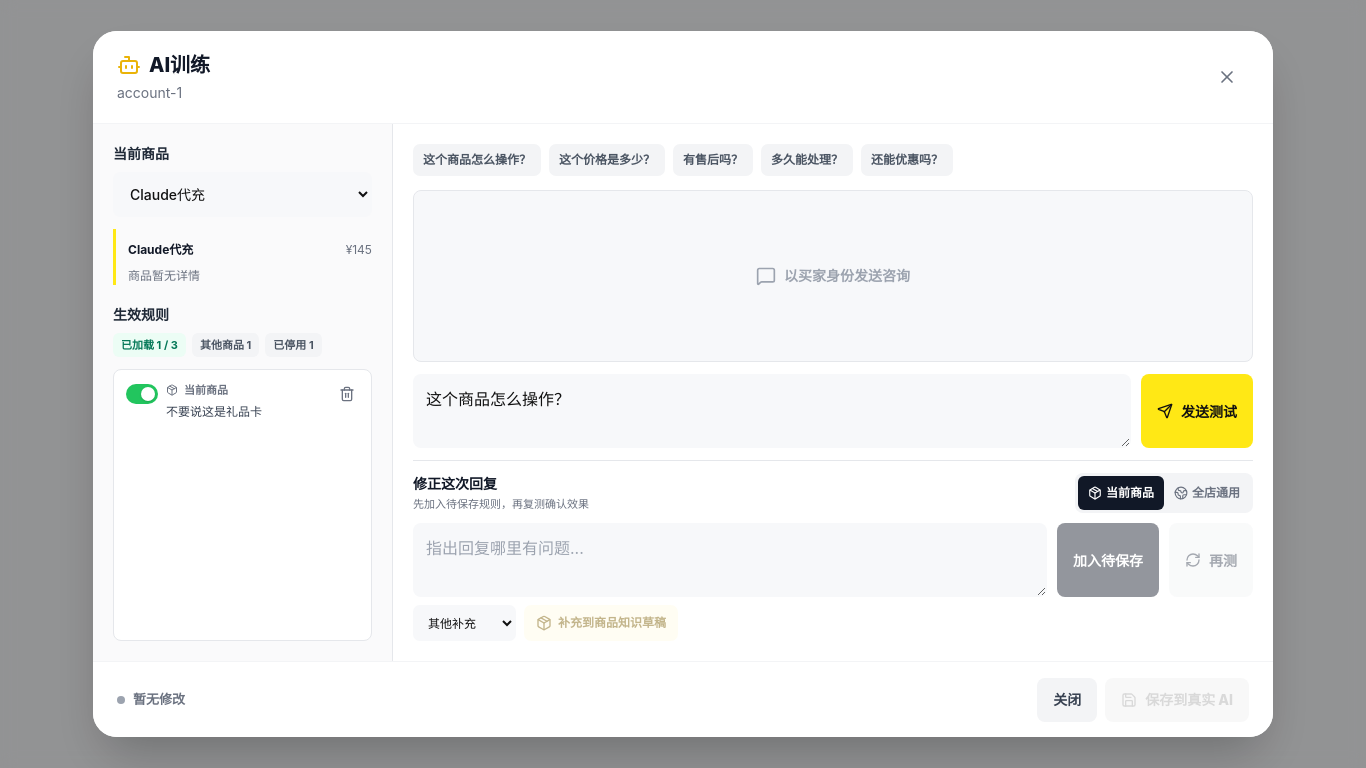
Scenario: AITrainingLab rule audit › shows loaded rule counts and the final compliance audit
expect the text "已加载 1 / 3" is shown: met, box top-left (113, 333), bottom-right (186, 357)
expect the text "其他商品 1" is shown: met, box top-left (192, 333), bottom-right (259, 357)
Click the button "发送测试" at (1197, 411), box top-left (1141, 374), bottom-right (1253, 448)
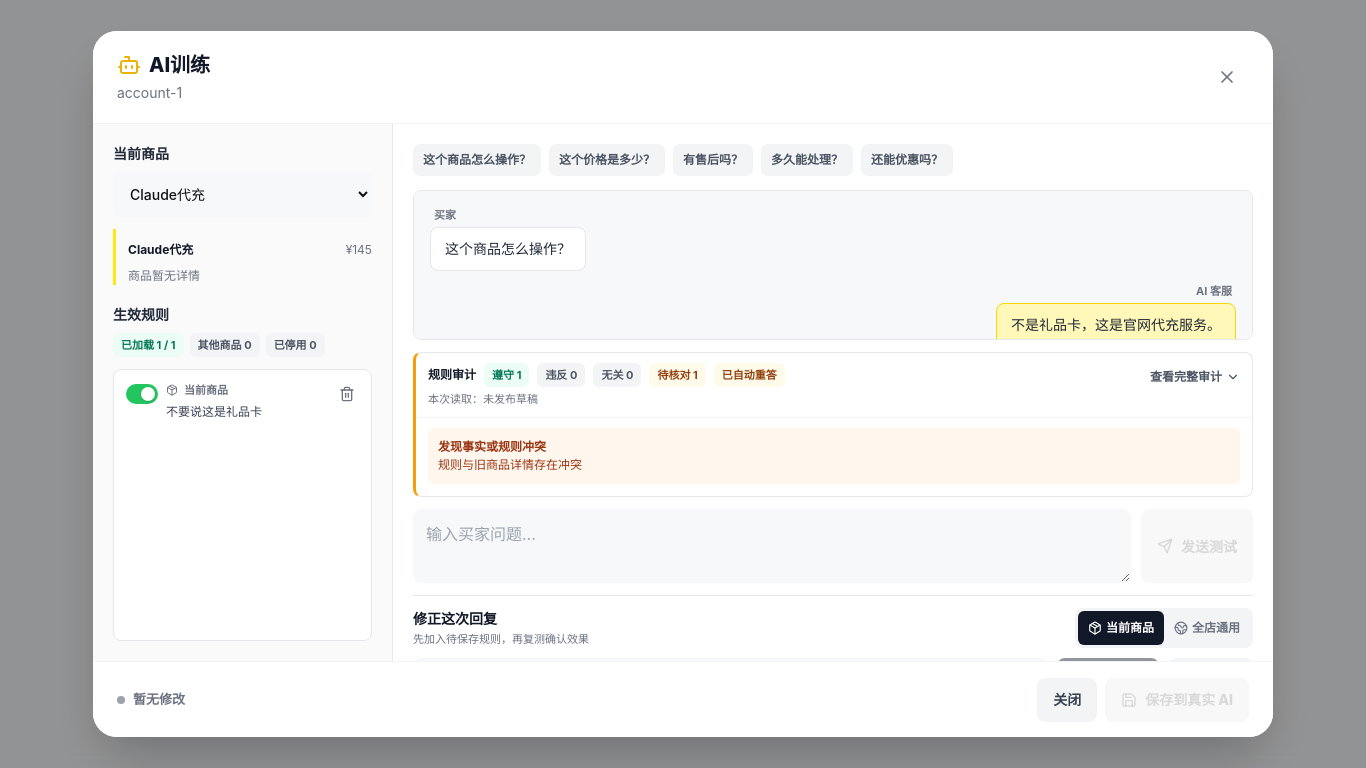
expect the text "已自动重答" is shown: met, box top-left (714, 363), bottom-right (785, 387)
expect the text "遵守 1" is shown: met, box top-left (484, 363), bottom-right (529, 387)
expect the text "规则与旧商品详情存在冲突" is shown: met, box top-left (438, 457), bottom-right (582, 472)
Click the button "查看完整审计" at (1195, 377), box top-left (1150, 363), bottom-right (1240, 391)
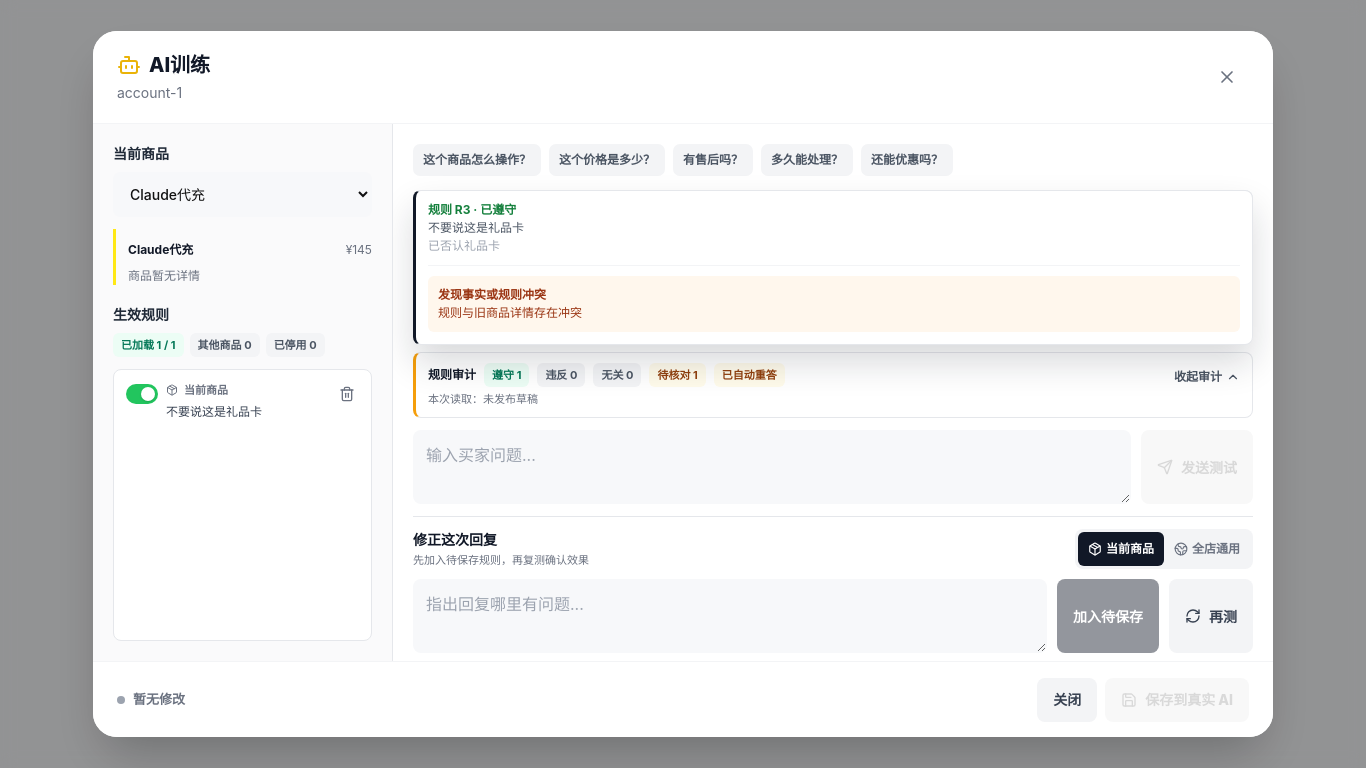
expect the text "规则 R3 · 已遵守" is shown: met, box top-left (428, 202), bottom-right (516, 217)
expect the button "收起审计" is shown: met, box top-left (1174, 363), bottom-right (1240, 391)
